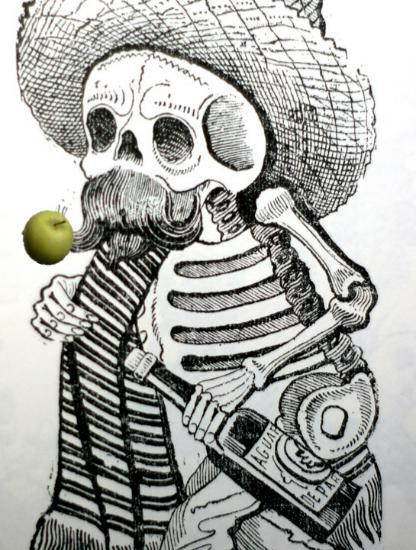Apple: (20, 210, 76, 266)
